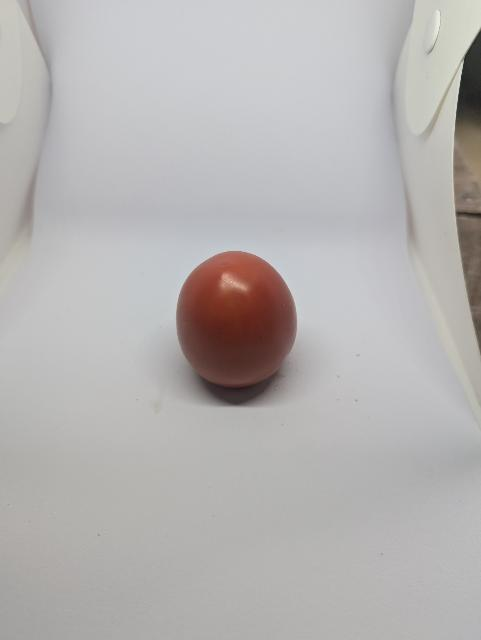red: (158, 244, 314, 404)
